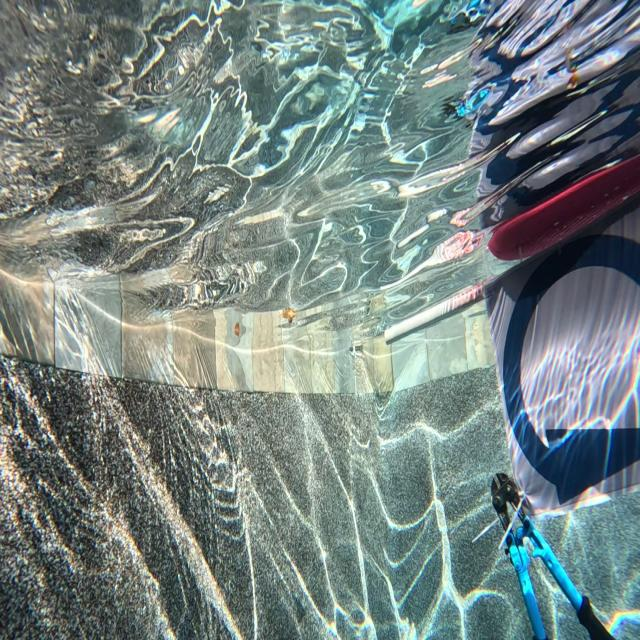blue_side: (506, 212, 640, 507)
